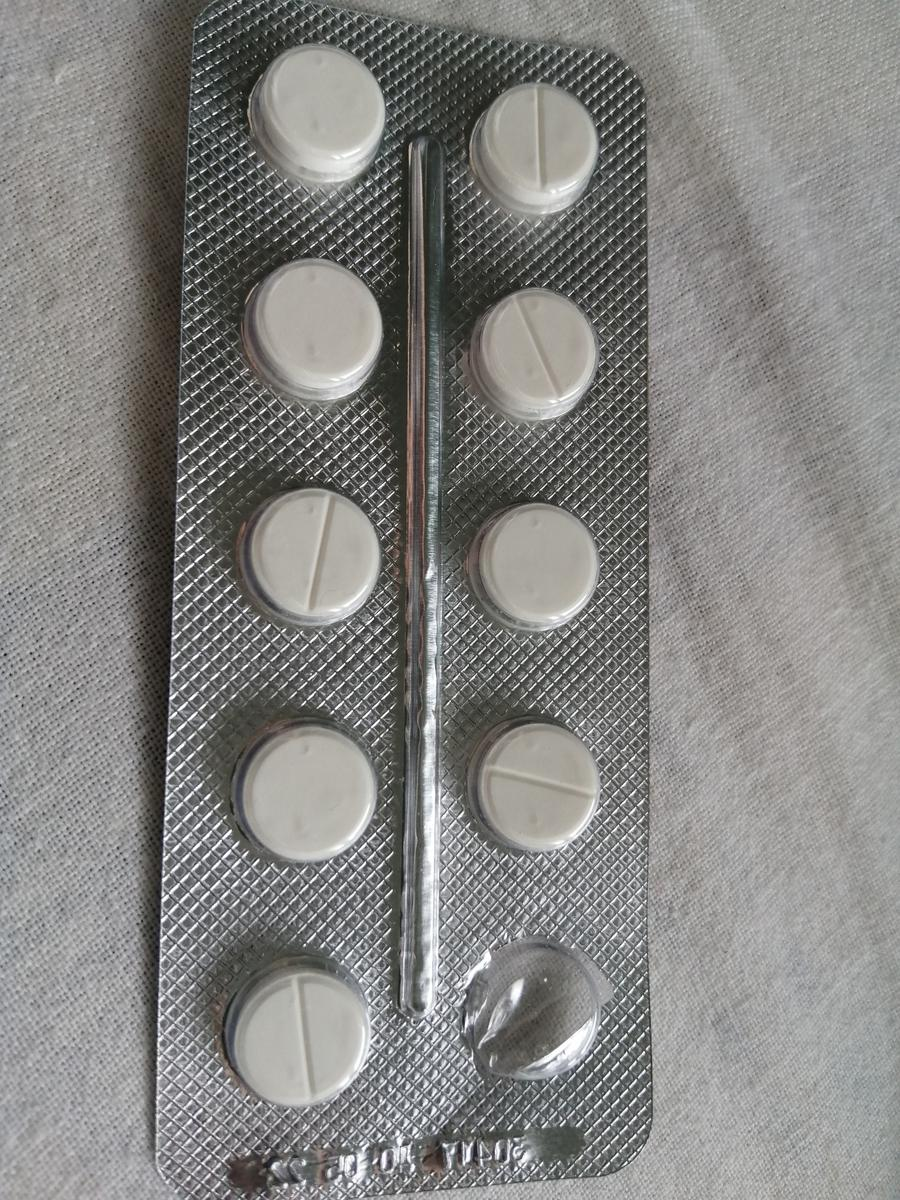tablet: (227, 956, 384, 1110), (239, 253, 389, 399), (231, 716, 377, 865), (467, 712, 602, 866), (240, 487, 386, 628), (464, 500, 605, 628), (258, 41, 386, 181), (471, 75, 601, 210), (471, 284, 598, 422)
